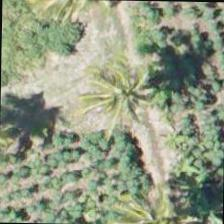Kelapa_Sawit: (70, 41, 162, 133)
